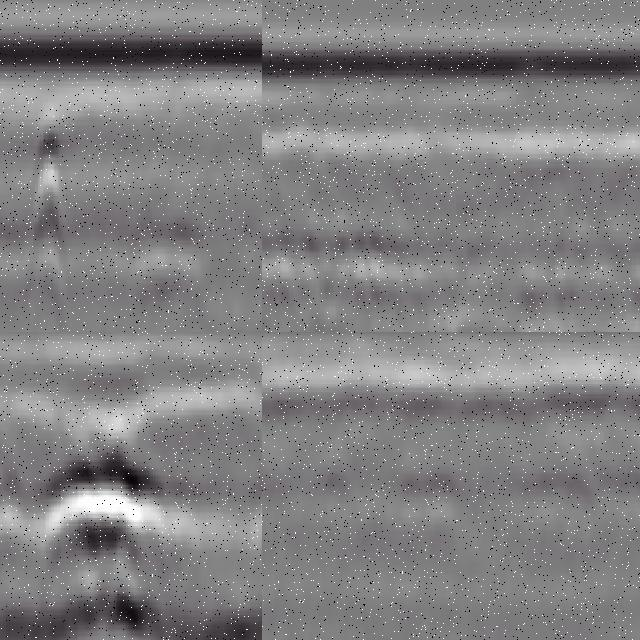crack: (15, 96, 76, 327)
loose: (1, 424, 157, 640)
